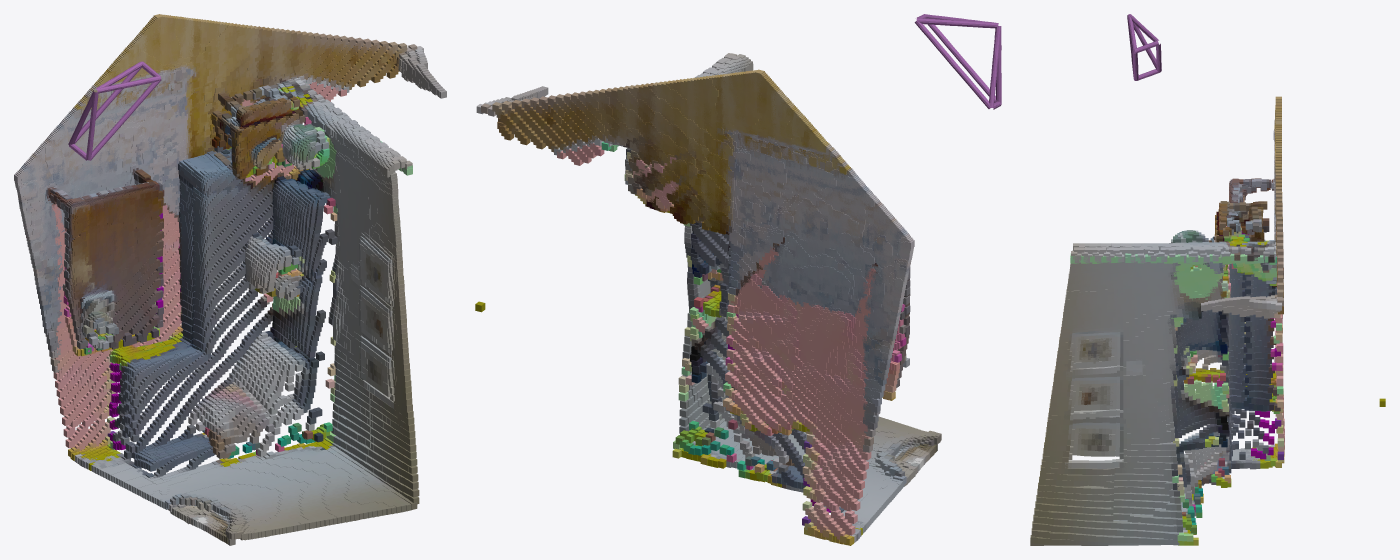
3 renders of one model, left to right at view 1: azimuth 30°, elevation 25°; view 2: azimuth 150°, elevation 25°; view 3: azimuth 270°, elevation 25°, orthographic. The views are drawn at different scales.
Bounding box in the file's own units: 3.59 × 3.72 × 2.87.
